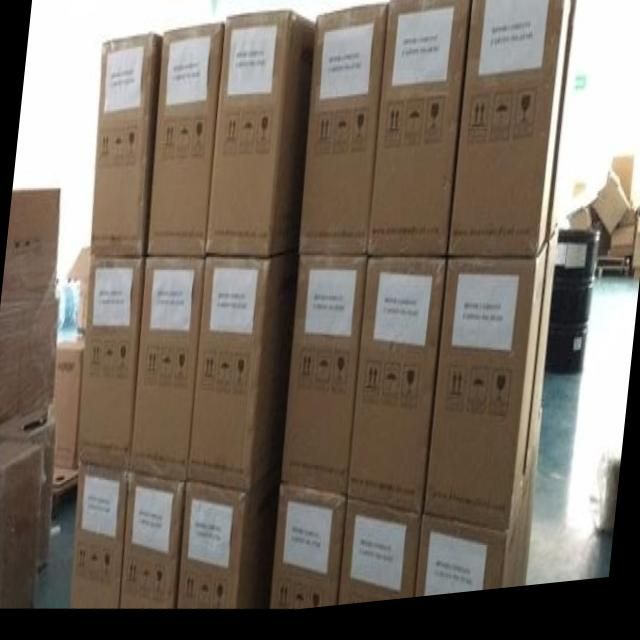box: (424, 256, 547, 539), (447, 0, 571, 267), (366, 0, 471, 267), (348, 267, 447, 521), (205, 19, 308, 260), (187, 259, 288, 496), (299, 12, 386, 263), (280, 263, 368, 503), (147, 28, 223, 261), (129, 258, 205, 486), (89, 35, 162, 261), (0, 188, 61, 426), (77, 260, 143, 470), (178, 486, 263, 614), (270, 488, 348, 615), (0, 410, 56, 573), (415, 522, 520, 606), (120, 474, 182, 612), (338, 509, 421, 612), (70, 466, 128, 611), (0, 439, 43, 609), (55, 336, 86, 468), (591, 185, 629, 247), (611, 168, 634, 213), (610, 239, 635, 269), (566, 217, 593, 240), (632, 228, 640, 282)
